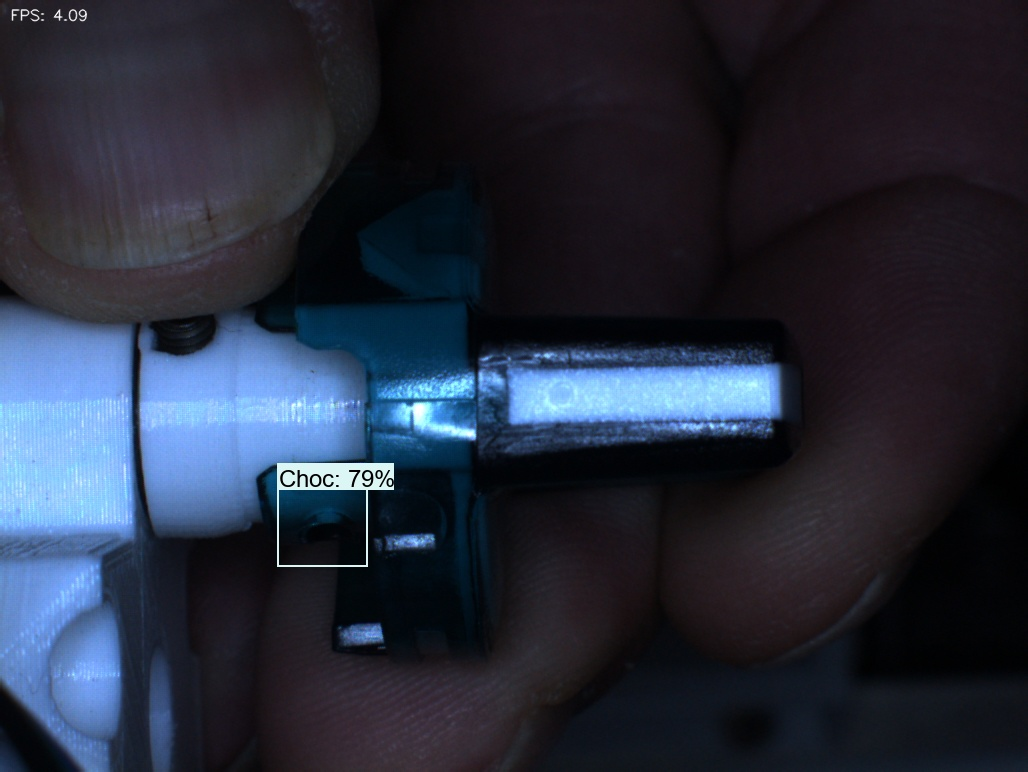DentOk: (333, 203, 408, 304)
